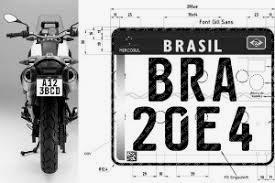placa_mercosul: (113, 30, 273, 165), (36, 75, 63, 97)
